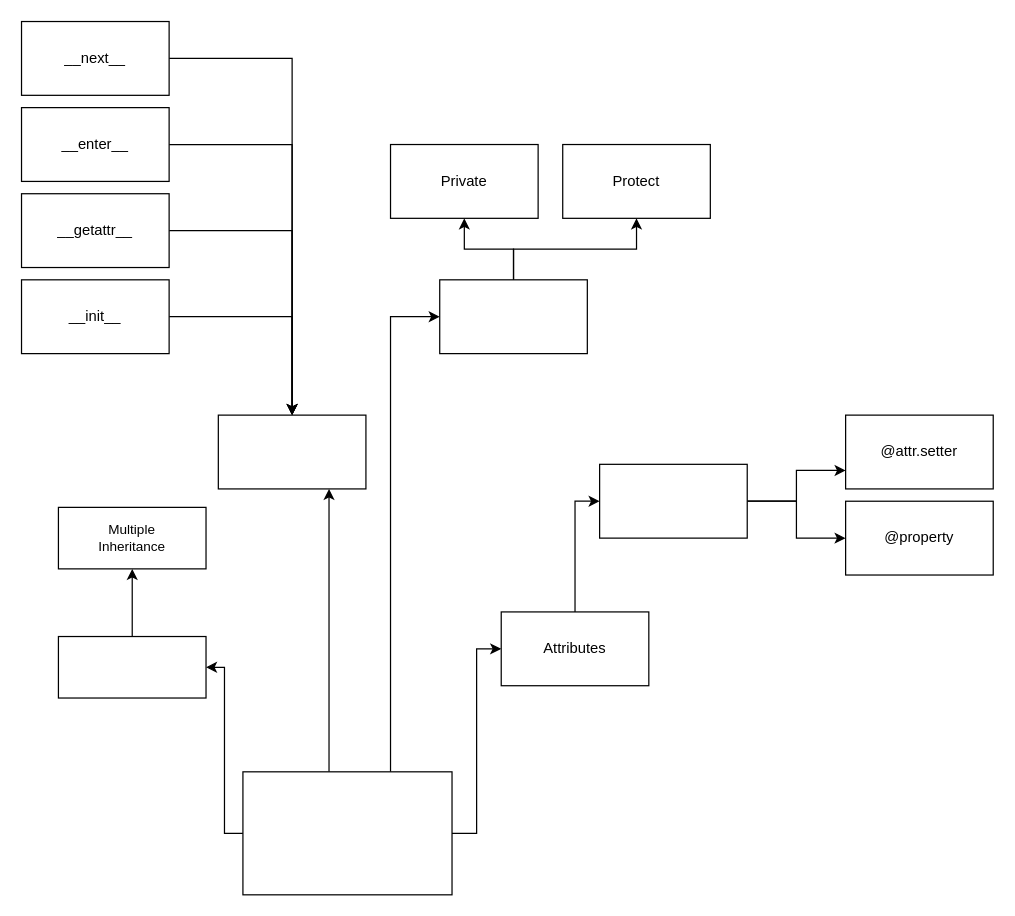
Image size: 1015x916. Some labels were removed from this diagram. Each missing label, with the centre of its shape:
"Classes" goes at point (347, 833).
"Encapsulation" goes at point (512, 316).
"Inheritance" goes at point (131, 666).
"Magic Methods" goes at point (291, 451).
"Property" goes at point (672, 500).
